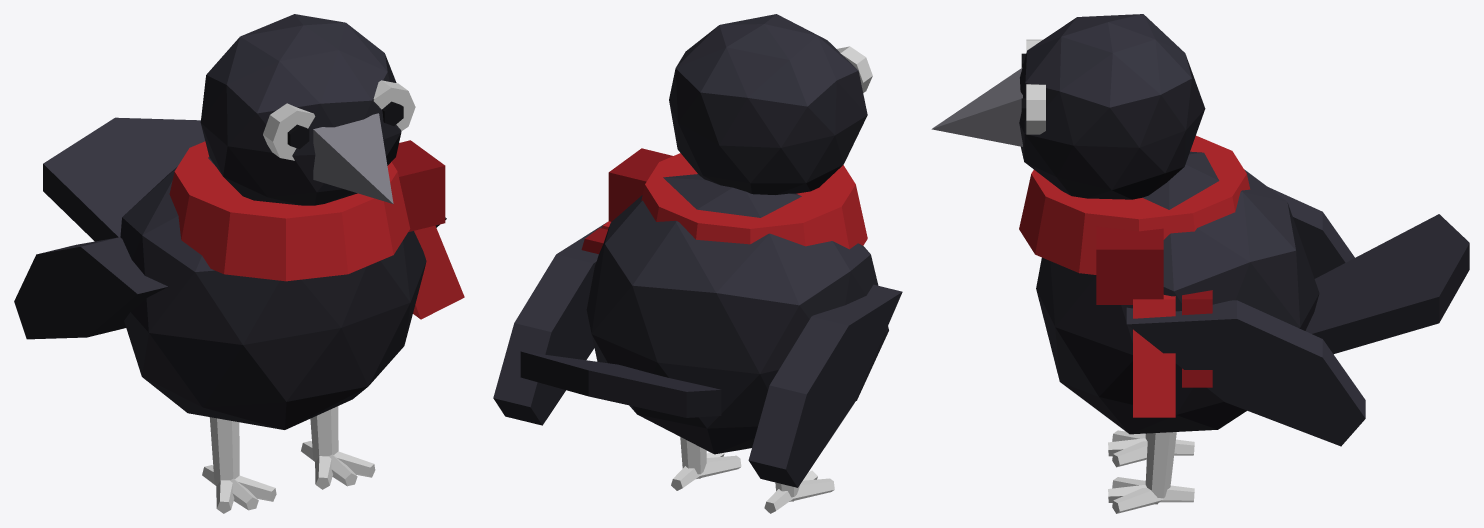
Rendered from crow_basic.fbx.
3 renders of one model, left to right at view 1: azimuth 30°, elevation 25°; view 2: azimuth 150°, elevation 25°; view 3: azimuth 270°, elevation 25°, orthographic. The views are drawn at different scales.
Parts seen in each view (by area): view 1: crow_basic, Head, Scarf, Tail, WingR, LegR, LegL; view 2: crow_basic, Head, WingR, Scarf, WingL, Tail, LegL, LegR; view 3: Head, crow_basic, Scarf, WingL, Tail, LegL, WingR, LegR.
Boxes of the visible parts, x1,y1,x2,y2 form: crow_basic: (120,157,426,429); Head: (200,14,415,205); Scarf: (169,140,464,319); Tail: (43,117,204,241); WingR: (14,237,167,339); LegR: (202,417,276,513); LegL: (301,406,375,489); crow_basic: (586,174,888,454); Head: (669,14,872,194); WingR: (748,284,902,487); Scarf: (581,148,867,254); WingL: (493,222,606,425); Tail: (520,351,721,417); LegL: (671,437,741,490); LegR: (764,470,834,513); Head: (931,14,1205,199); crow_basic: (1036,151,1319,434); Scarf: (1019,135,1250,417); WingL: (1126,300,1365,446); Tail: (1305,214,1469,354); LegL: (1108,432,1194,513); WingR: (1268,187,1354,278); LegR: (1108,430,1194,467).
Size of the model in its own units: 0.301 by 0.4131 by 0.4397.
